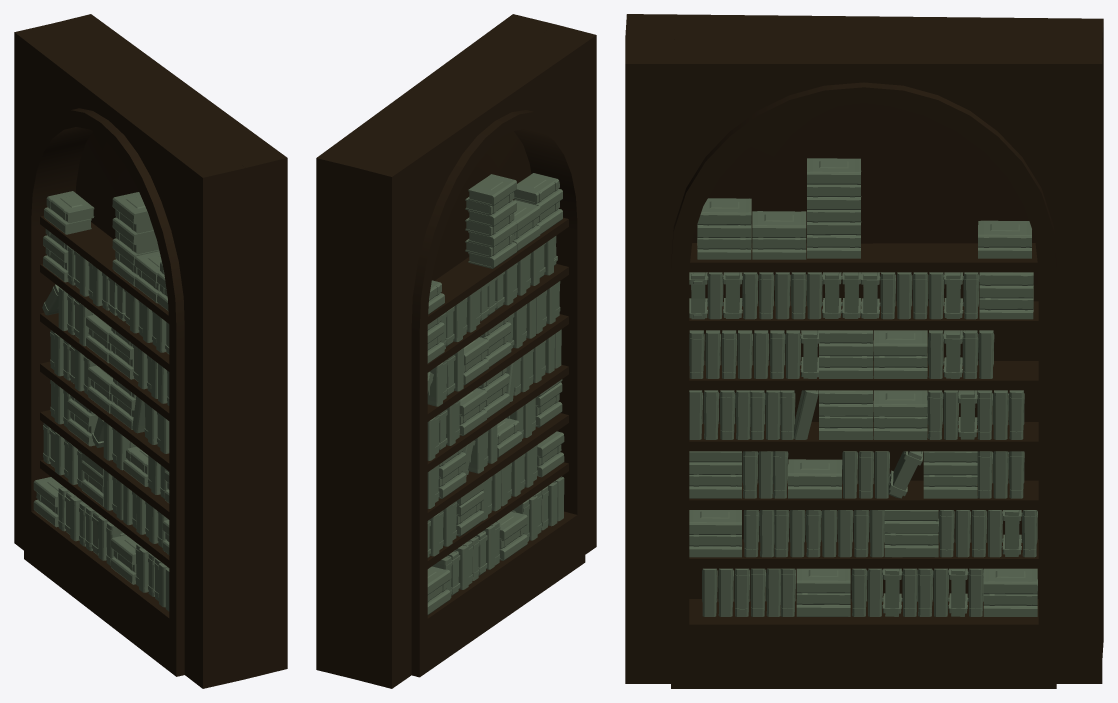
The model's file is low_library.003.fbx.
3 views of the same model, side by side, from view 1: azimuth 30°, elevation 25°; view 2: azimuth 150°, elevation 25°; view 3: azimuth 270°, elevation 25° (orthographic). The views are drawn at different scales.
Visible parts, largest first — view 1: low_library.003; view 2: low_library.003; view 3: low_library.003.
Part boxes in pixels (x1,y1,x2,y2): low_library.003: (14, 14, 287, 688); low_library.003: (316, 14, 596, 688); low_library.003: (625, 14, 1103, 688).
Size of the model in its own units: 107 by 522 by 365.
